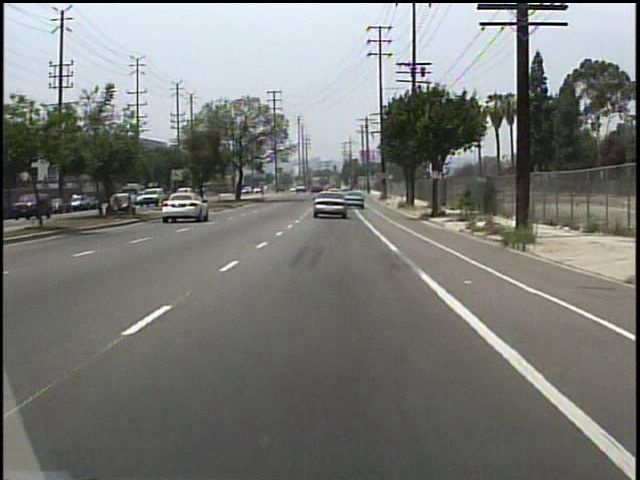person: (72, 193, 82, 214)
